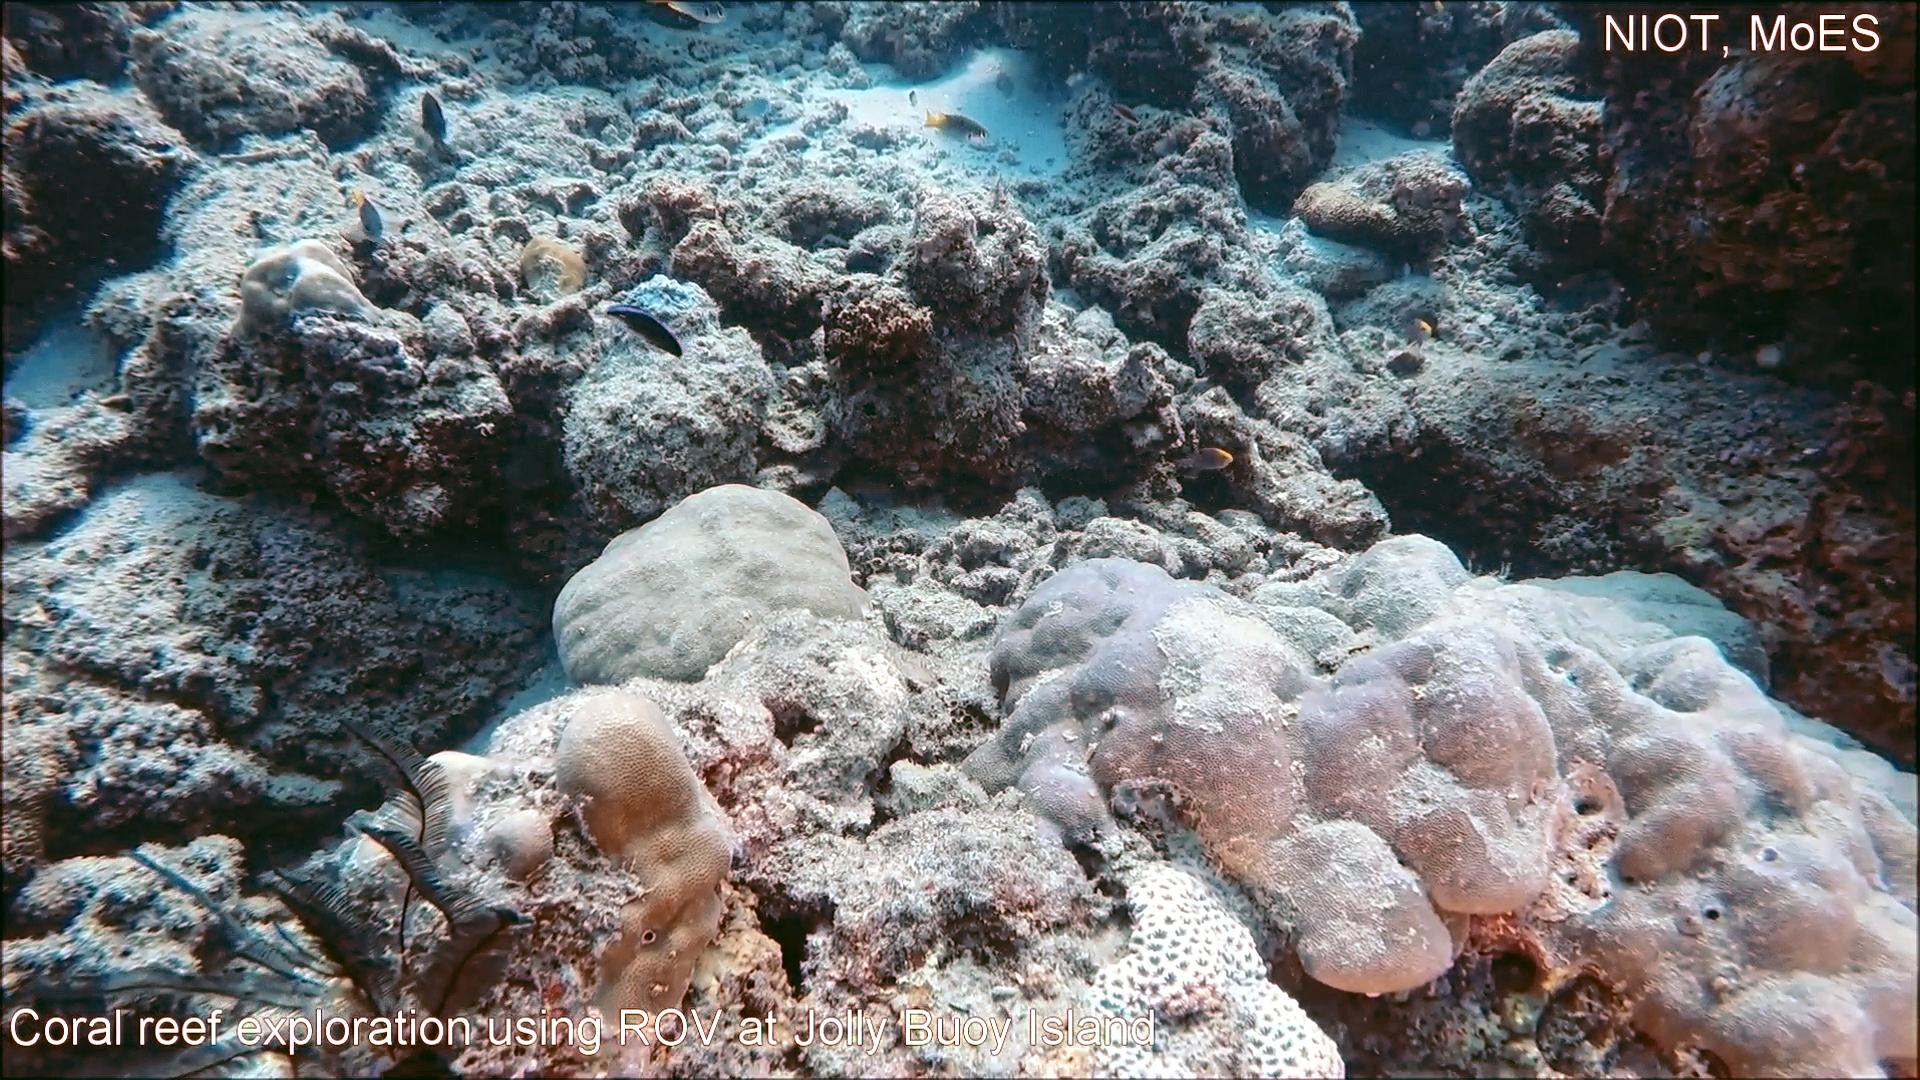Feather star-Crinoid star: (0, 709, 551, 1080)
Goniastrea-Goniastrea pectinata: (1077, 848, 1356, 1080)
Porites-Porites pukoensis: (1416, 517, 1920, 1080)
